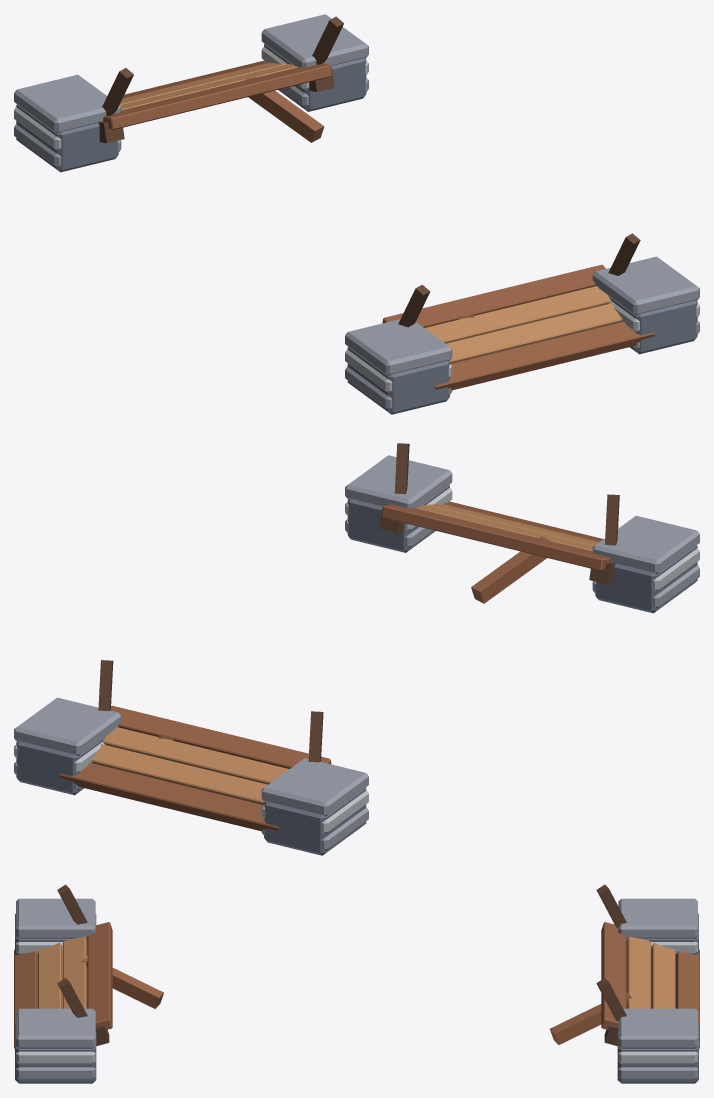
Rendered from bridge_ruined.glb.
The picture shows the model from 3 angles, top to bottom: view 1: azimuth 30°, elevation 25°; view 2: azimuth 150°, elevation 25°; view 3: azimuth 270°, elevation 25°; orthographic projection. The views are drawn at different scales.
Visible parts, largest first — view 1: bridge_ruined_建筑共用调色板.016; view 2: bridge_ruined_建筑共用调色板.016; view 3: bridge_ruined_建筑共用调色板.016.
Boxes of the visible parts, left/top/right/bottom form: bridge_ruined_建筑共用调色板.016: left=14, top=14, right=699, bottom=414; bridge_ruined_建筑共用调色板.016: left=14, top=443, right=699, bottom=855; bridge_ruined_建筑共用调色板.016: left=14, top=884, right=699, bottom=1083.
Bounding box in the file's own units: 3.86 × 1.12 × 8.02.
1 material, 1 textured.
